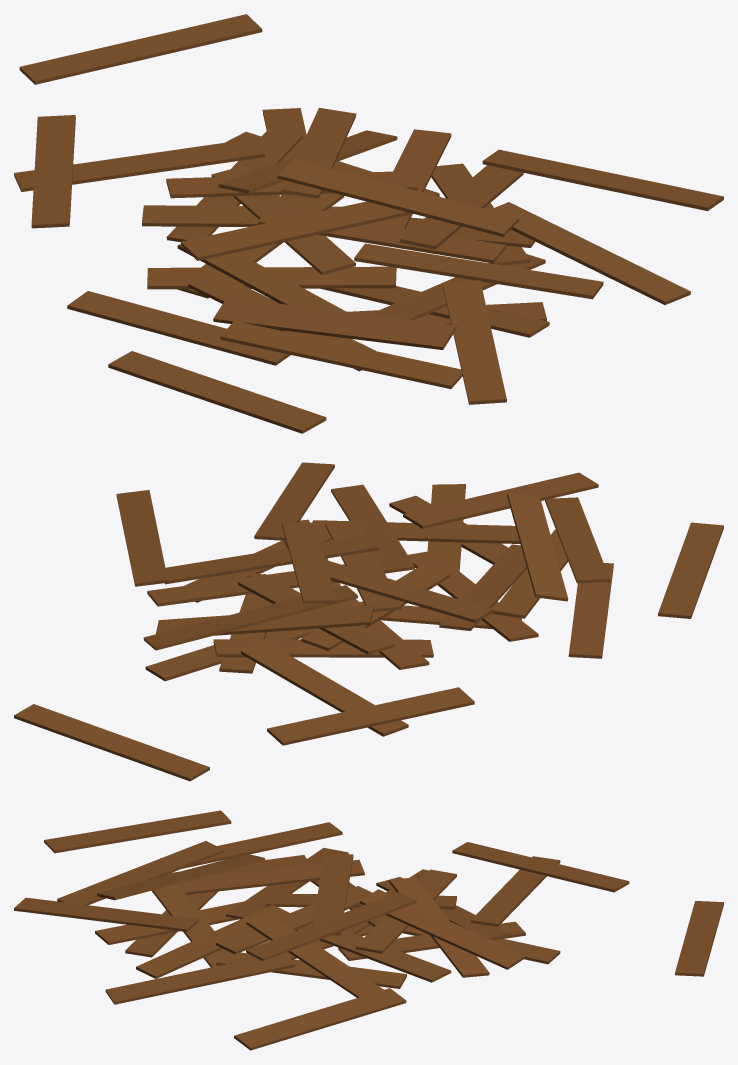
Rendered from pila mediana maderas.fbx.
3 views of the same model, one above another, from view 1: azimuth 30°, elevation 25°; view 2: azimuth 150°, elevation 25°; view 3: azimuth 270°, elevation 25° (orthographic). The views are drawn at different scales.
Visible parts, largest first — view 1: pila mediana de maderas; view 2: pila mediana de maderas; view 3: pila mediana de maderas.
Part boxes in pixels (bbox=[...]): pila mediana de maderas: bbox=[14, 14, 723, 433]; pila mediana de maderas: bbox=[14, 462, 723, 781]; pila mediana de maderas: bbox=[14, 810, 723, 1050].
Bounding box in the file's own units: 590 × 36.66 × 748.
